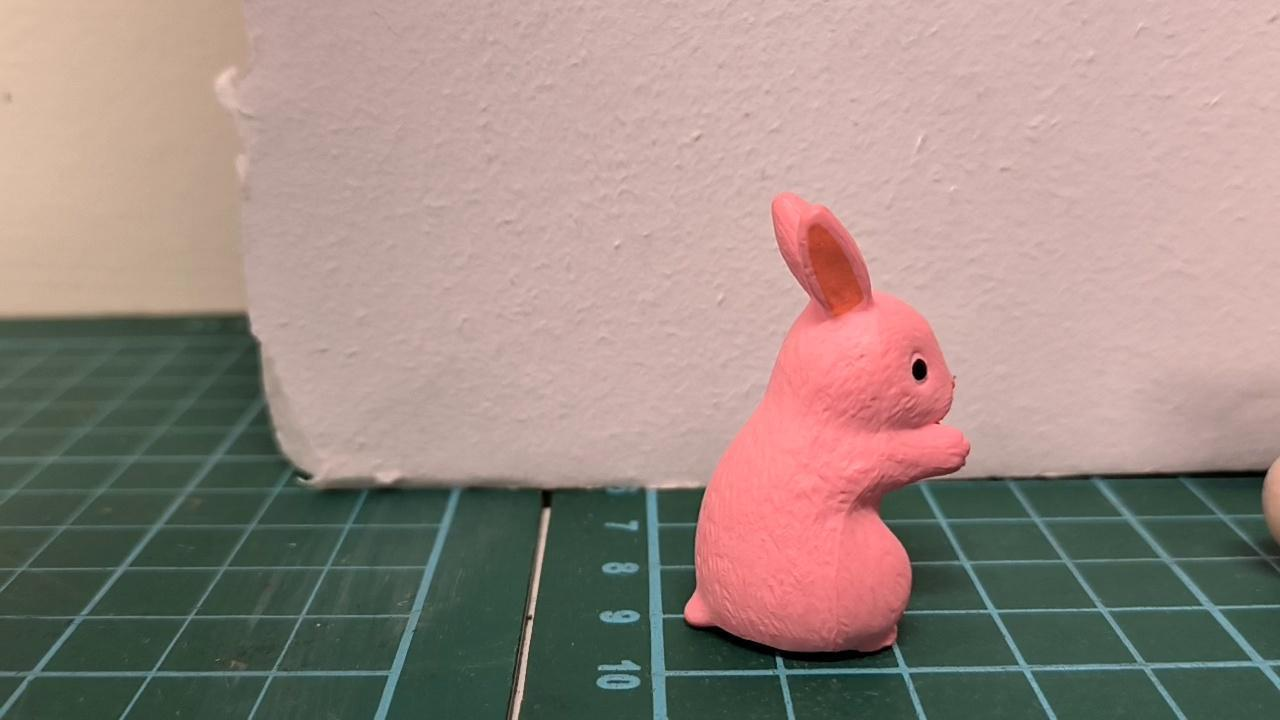pet: (681, 190, 969, 654)
